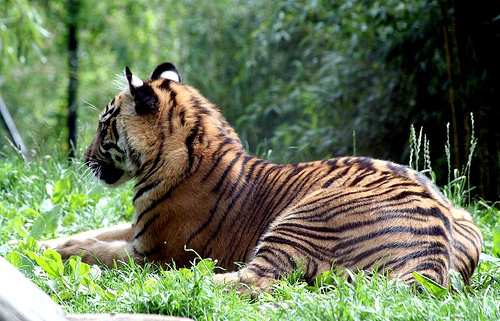Tigre: (78, 68, 489, 312)
